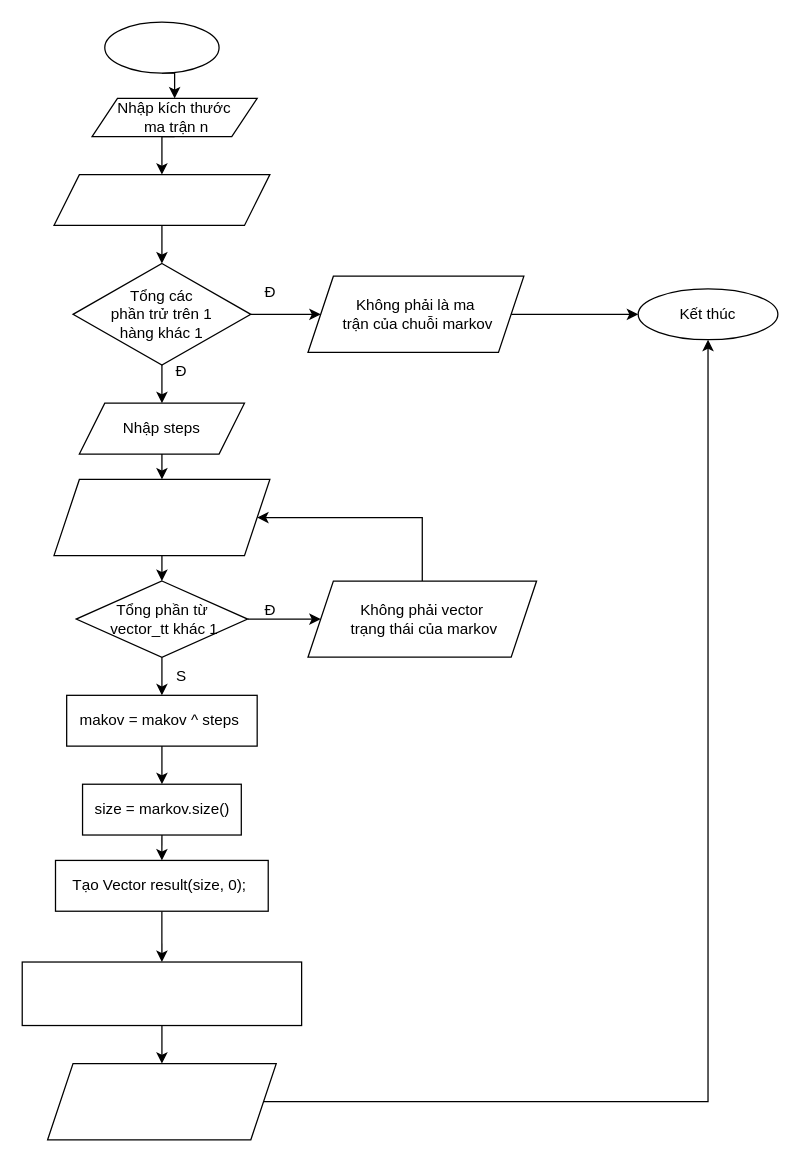
The diagram is 800 pixels wide and 1162 high, and some of its shapes have lost their labels. Each missing label, with the box of its shape:
Bắt đầu: (104, 21, 219, 73)
In ra kết quả result: (46, 1062, 276, 1140)
Nhập ma trận makov[n][n]: (53, 173, 270, 225)
Nhập vector trạng thái ban đầu vector_tt[n]: (53, 478, 270, 556)
result[i] += vector_tt[j] * markov[j][i]; (i,j = 1...size): (21, 961, 302, 1026)
